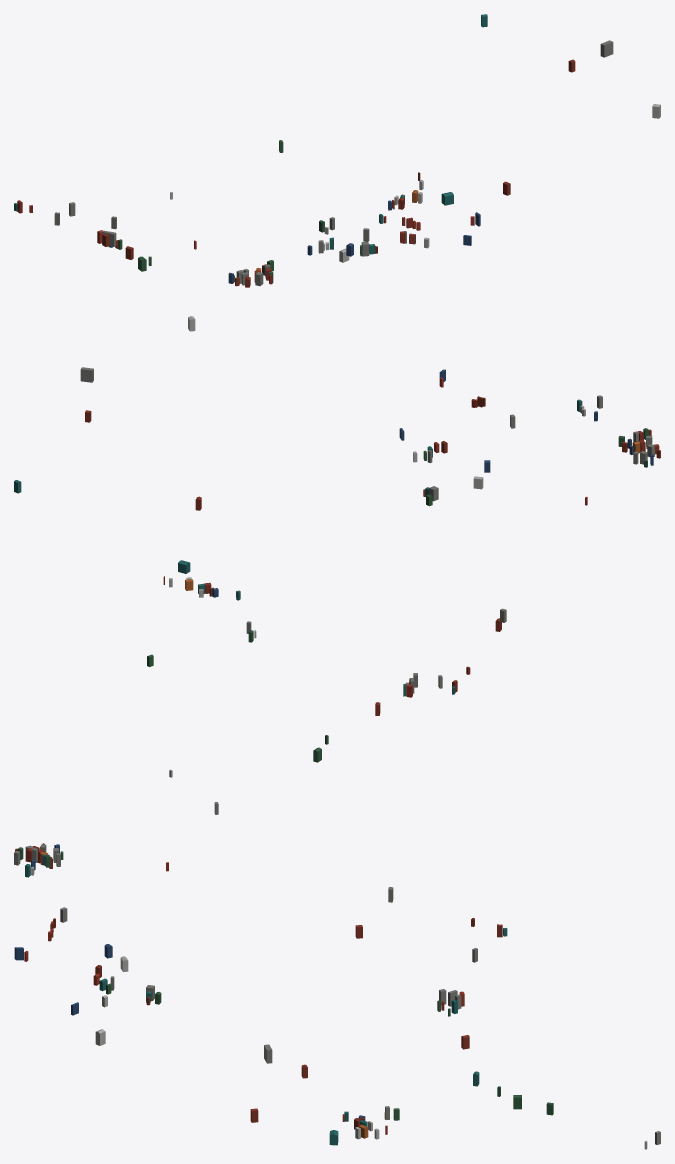
Rendered from near-15-27359-14863.9d6fcaf3.glb.
3 renders of one model, top to bottom at view 1: azimuth 30°, elevation 25°; view 2: azimuth 150°, elevation 25°; view 3: azimuth 270°, elevation 25°, orthographic. The views are drawn at different scales.
Bounding box in the file's own units: 1078 × 514 × 1149.
